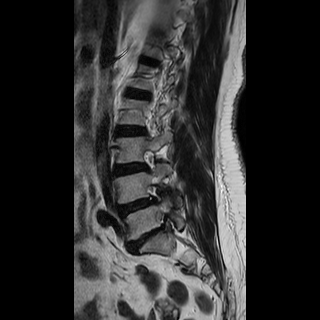RFS0: (135, 145, 164, 176)
RFS1: (137, 178, 170, 208)
